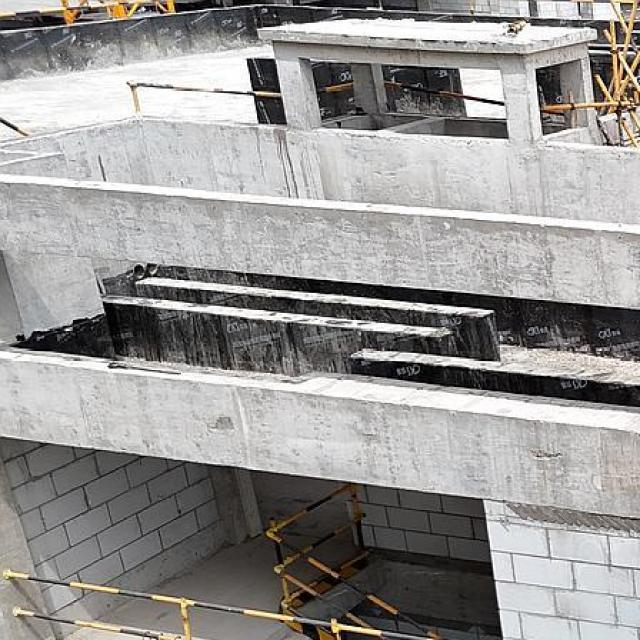edge_guardrail: (6, 570, 436, 640), (127, 80, 282, 114), (0, 115, 31, 138)
